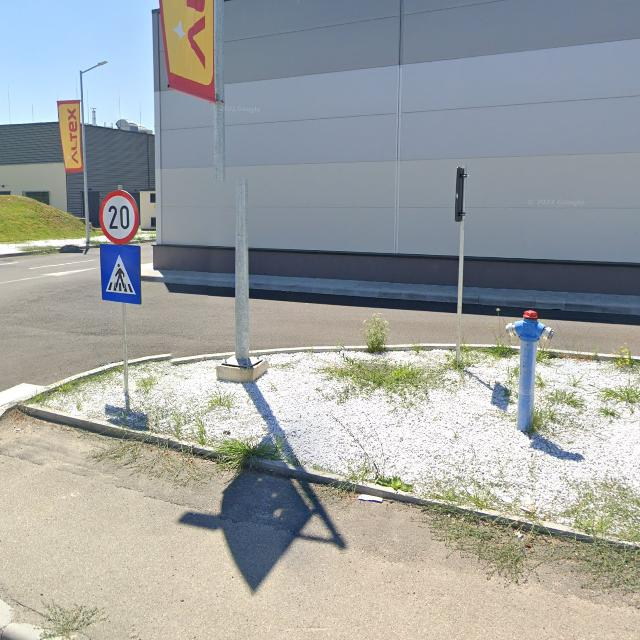forb_speed_over_20: (98, 190, 140, 243)
info_crosswalk: (100, 242, 142, 303)
